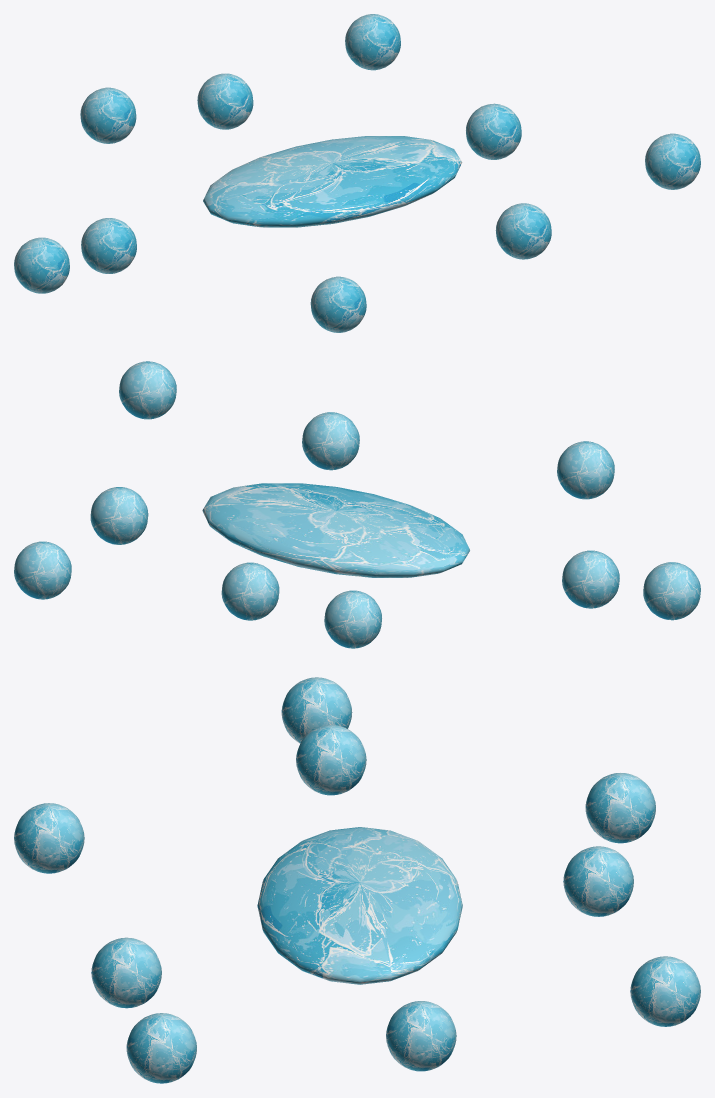
File: ice.glb
3 renders of one model, top to bottom at view 1: azimuth 30°, elevation 25°; view 2: azimuth 150°, elevation 25°; view 3: azimuth 270°, elevation 25°, orthographic. The views are drawn at different scales.
Visible parts, largest first — view 1: Platform, pSphere2.006, pSphere2.008, pSphere2.002, pSphere2.007, pSphere2.004, pSphere2.003, pSphere2.001, pSphere2, pSphere2.005; view 2: Platform, pSphere2.006, pSphere2.003, pSphere2.004, pSphere2.008, pSphere2.002, pSphere2.005, pSphere2.001, pSphere2.007, pSphere2; view 3: Platform, pSphere2, pSphere2.001, pSphere2.004, pSphere2.005, pSphere2.002, pSphere2.003, pSphere2.006, pSphere2.007, pSphere2.008.
Boxes of the visible parts, x1,y1,x2,y2 form: Platform: (203, 136, 462, 227); pSphere2.006: (197, 73, 253, 129); pSphere2.008: (14, 237, 69, 293); pSphere2.002: (495, 203, 551, 259); pSphere2.007: (80, 87, 136, 143); pSphere2.004: (645, 133, 700, 189); pSphere2.003: (310, 276, 366, 332); pSphere2.001: (345, 14, 400, 70); pSphere2: (466, 103, 521, 159); pSphere2.005: (81, 218, 136, 273); Platform: (202, 483, 469, 577); pSphere2.006: (221, 562, 279, 620); pSphere2.003: (557, 441, 614, 499); pSphere2.004: (119, 361, 176, 419); pSphere2.008: (643, 562, 700, 620); pSphere2.002: (302, 412, 359, 470); pSphere2.005: (562, 550, 619, 608); pSphere2.001: (14, 541, 71, 599); pSphere2.007: (324, 590, 381, 648); pSphere2: (90, 487, 148, 544); Platform: (257, 827, 462, 984); pSphere2: (386, 1001, 456, 1071); pSphere2.001: (630, 956, 700, 1026); pSphere2.004: (126, 1013, 196, 1083); pSphere2.005: (296, 725, 366, 795); pSphere2.002: (91, 937, 161, 1008); pSphere2.003: (14, 803, 84, 873); pSphere2.006: (563, 846, 633, 916); pSphere2.007: (585, 773, 655, 843); pSphere2.008: (281, 677, 352, 743).
Bounding box in the file's own units: 33.97 × 4.39 × 26.07.
Materials: 1 (1 with a texture image).
